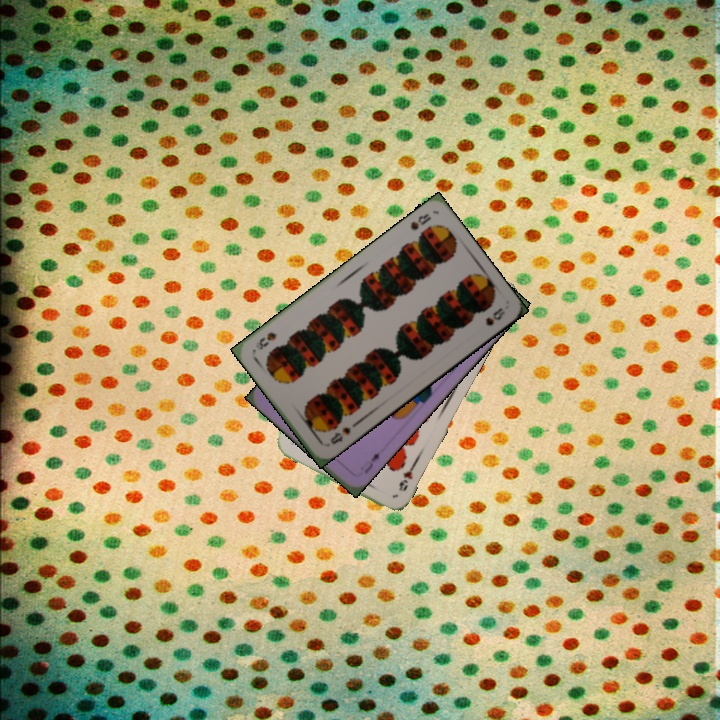EU: (360, 448, 383, 477)
H9: (395, 461, 418, 494)
S8: (326, 423, 354, 447), (406, 209, 434, 233)
